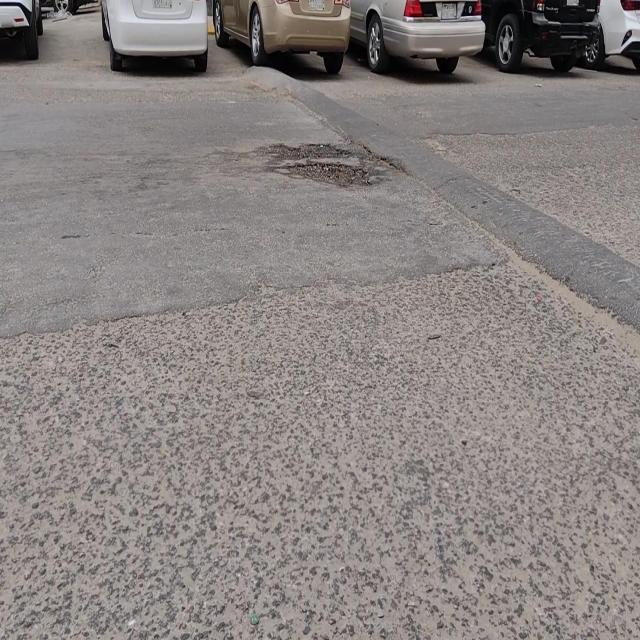Pothole: (264, 142, 373, 189)
